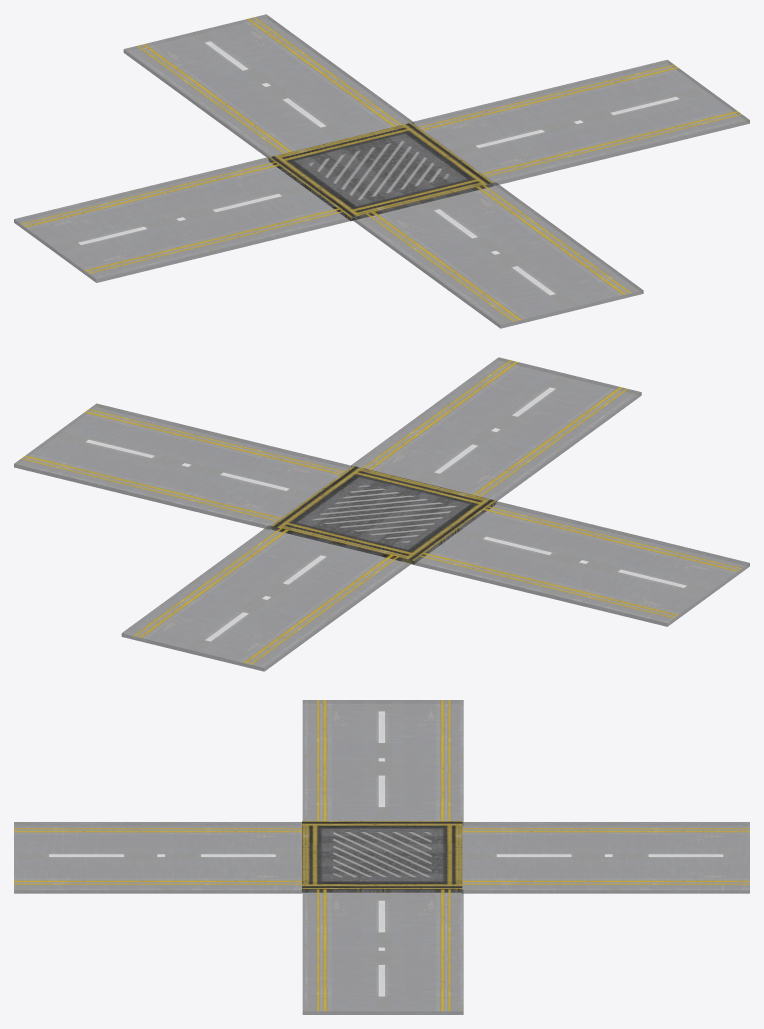
3 renders of one model, top to bottom at view 1: azimuth 30°, elevation 25°; view 2: azimuth 150°, elevation 25°; view 3: azimuth 270°, elevation 25°, orthographic. The views are drawn at different scales.
Parts seen in each view (by area): view 1: Mesh2_phong9_0, old_road:Mesh, Mesh1_phong9_0, Mesh3_phong9_0, Mesh_phong10_0; view 2: Mesh2_phong9_0, Mesh3_phong9_0, Mesh1_phong9_0, old_road:Mesh, Mesh_phong10_0; view 3: old_road:Mesh, Mesh3_phong9_0, Mesh1_phong9_0, Mesh2_phong9_0, Mesh_phong10_0.
Boxes of the visible parts, <box> form: Mesh2_phong9_0: <box>14,157,349,282</box>; old_road:Mesh: <box>353,182,643,328</box>; Mesh1_phong9_0: <box>412,60,749,185</box>; Mesh3_phong9_0: <box>123,14,414,157</box>; Mesh_phong10_0: <box>268,122,493,221</box>; Mesh2_phong9_0: <box>411,501,749,626</box>; Mesh3_phong9_0: <box>121,525,411,671</box>; Mesh1_phong9_0: <box>14,403,351,529</box>; old_road:Mesh: <box>351,357,641,500</box>; Mesh_phong10_0: <box>271,466,495,564</box>; old_road:Mesh: <box>14,822,302,893</box>; Mesh3_phong9_0: <box>462,822,749,893</box>; Mesh1_phong9_0: <box>302,889,463,1014</box>; Mesh2_phong9_0: <box>302,700,463,824</box>; Mesh_phong10_0: <box>302,821,462,892</box>.
Size of the model in its own units: 22.92 by 0.123 by 22.91.
2 materials, 2 textured.
